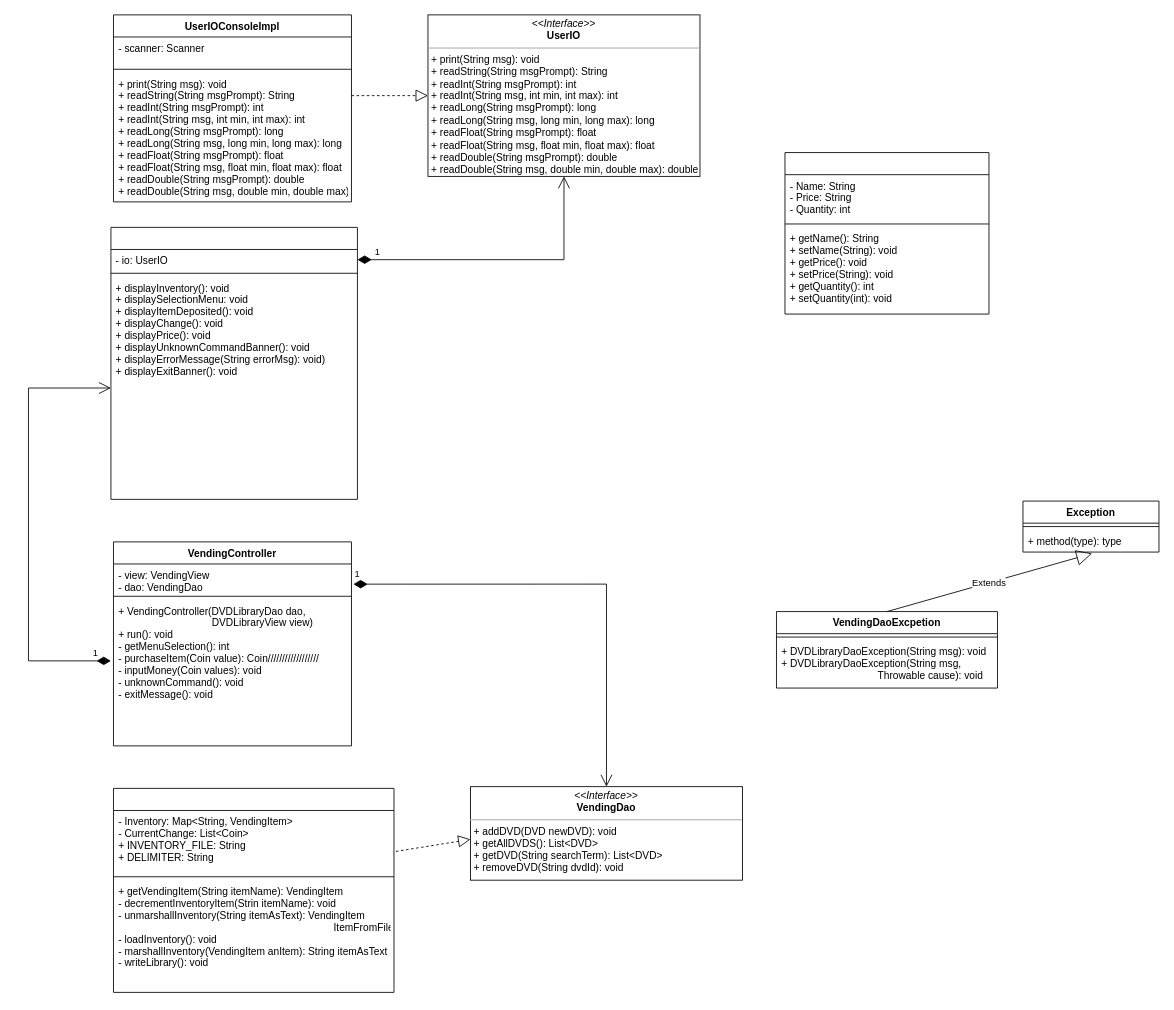
This 1174x1010 diagram has some shape labels left out. The box of each missing label's shape, as (x1, y1, x2, y2) in pixels:
VendingDaoFileImpl: (113, 788, 394, 992)
VendingItem: (784, 152, 989, 314)
VendingView: (110, 227, 357, 499)
